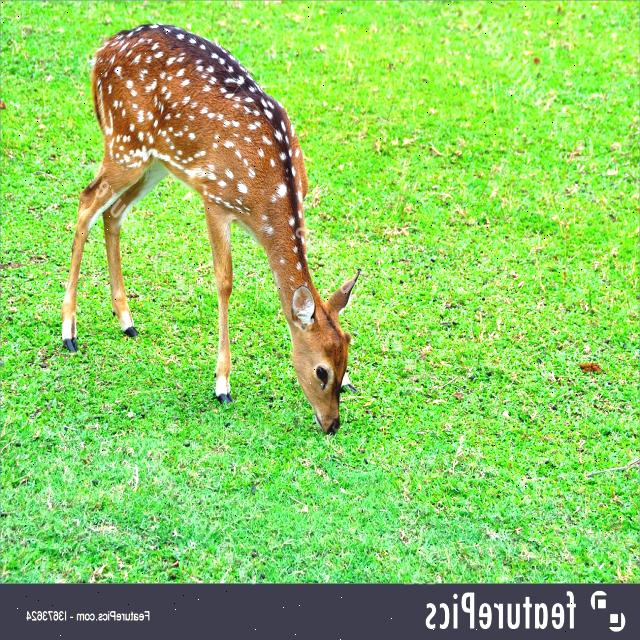deer: (260, 83, 359, 448)
